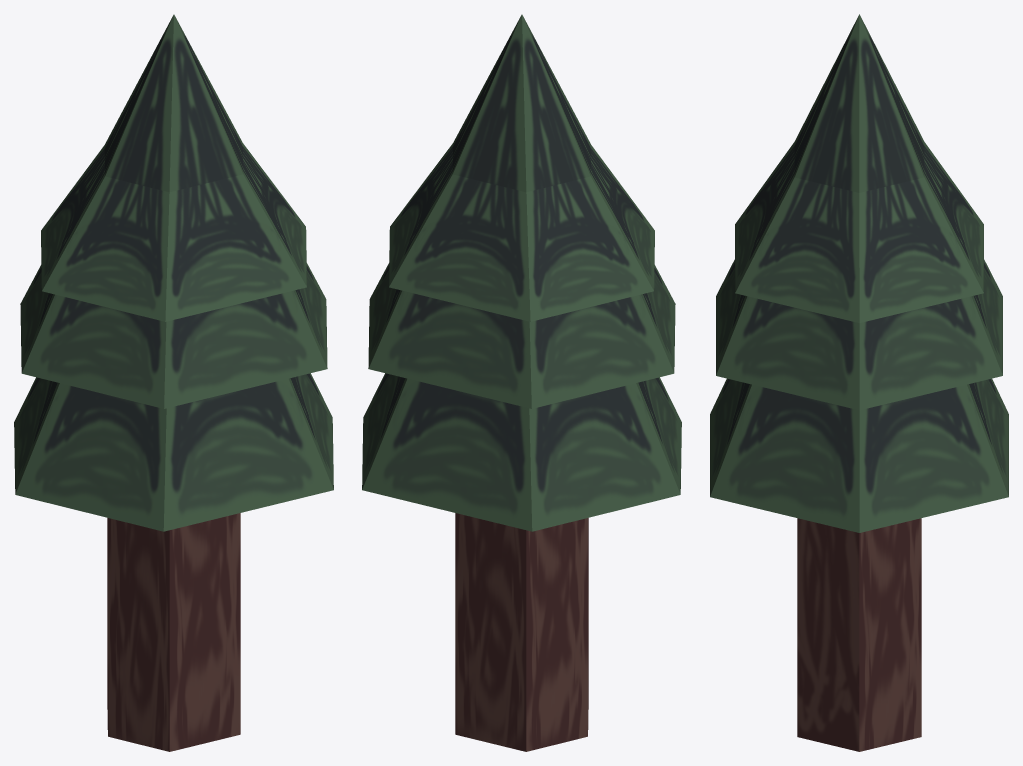
The model's file is Tree.fbx.
3 views of the same model, side by side, from view 1: azimuth 30°, elevation 25°; view 2: azimuth 150°, elevation 25°; view 3: azimuth 270°, elevation 25° (orthographic).
Visible parts, largest first — view 1: Cylinder; view 2: Cylinder; view 3: Cylinder.
Boxes of the visible parts, x1,y1,x2,y2 form: Cylinder: [14, 14, 333, 751]; Cylinder: [362, 14, 681, 751]; Cylinder: [710, 14, 1008, 751].
Size of the model in its own units: 385 by 818 by 314.
Materials: 1 (1 with a texture image).
